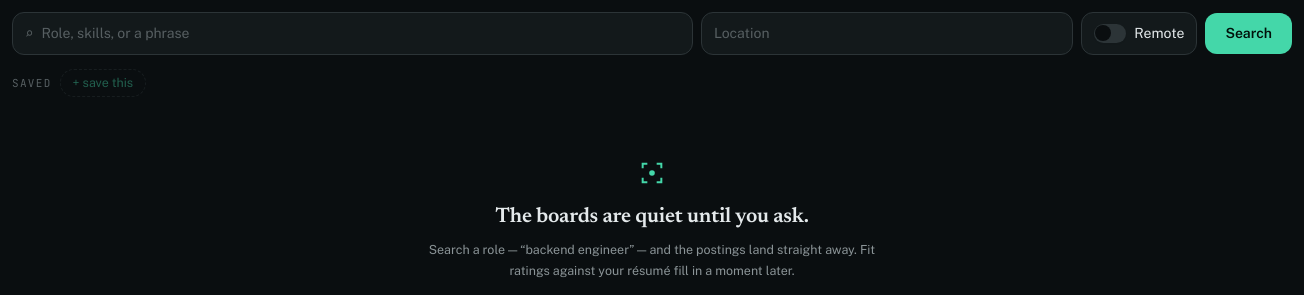
sourcing workspace › never paints a fit badge under a header that still says it is rating
This screenshot has width=1304, height=295.
Type "backend" into the field with test id "search-keywords". click: coordinates (361, 34)
box: [41,23,680,44]
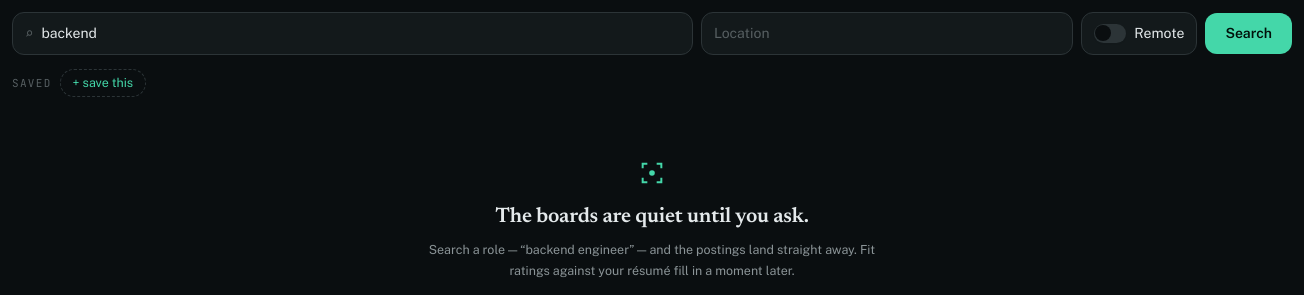
Click the button with test id "search-jobs". click: coordinates (1249, 34)
box: [1205,13,1292,54]
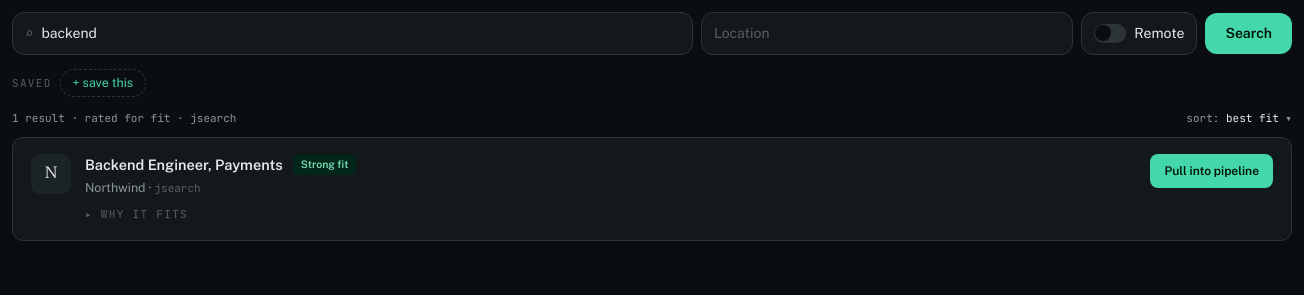
Now the number of elements with test id "sourcing-result" is 1, box [12,138,1292,241]
Now the text "Strong fit" is shown, box [293,156,356,175]
